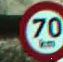Speed limit: (11, 3, 61, 58)
